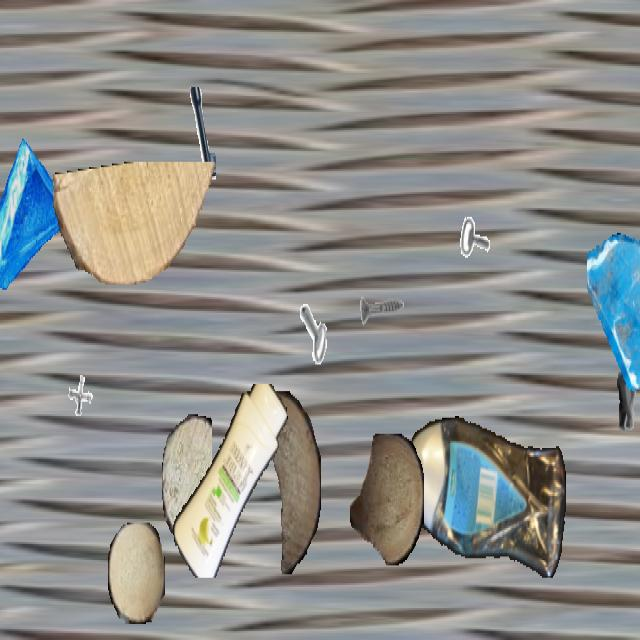glass: (0, 137, 76, 304), (587, 231, 640, 398)
metal: (158, 87, 216, 190), (299, 270, 353, 366), (358, 270, 404, 352), (602, 359, 640, 448), (62, 361, 102, 432), (460, 192, 500, 263)
plastic: (405, 414, 565, 585), (170, 384, 292, 576)
wood: (53, 162, 219, 282), (249, 391, 321, 573), (350, 434, 424, 565), (162, 414, 212, 542), (108, 523, 164, 622)
